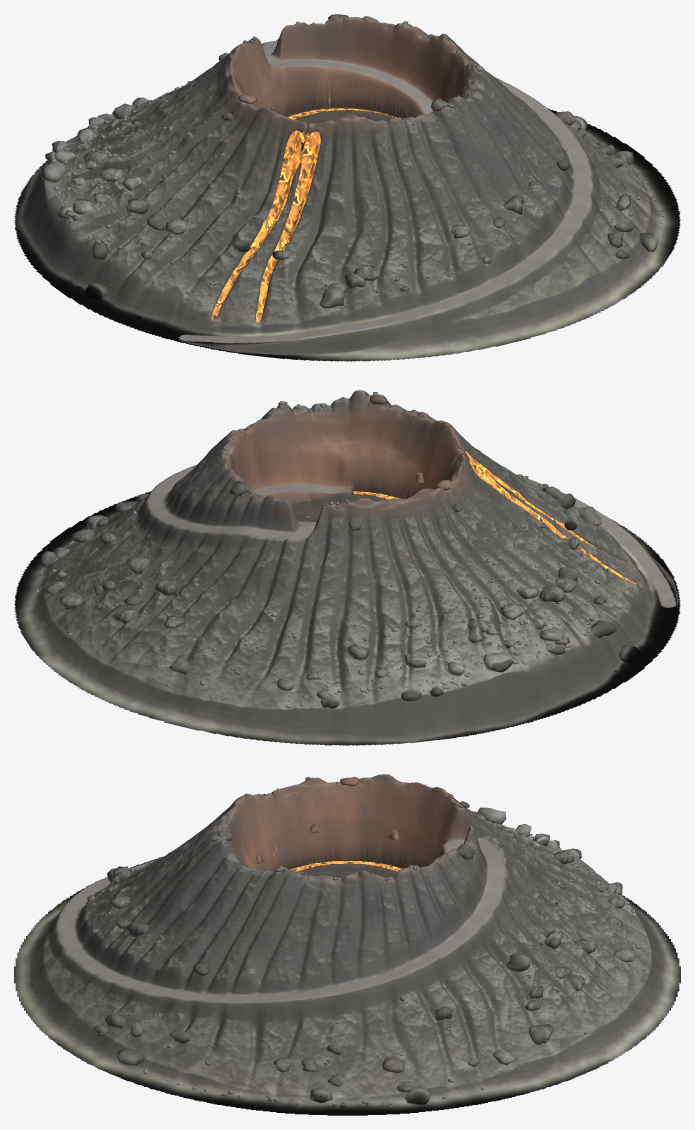
The model's file is volcano_titan_lod1.glb.
3 renders of one model, top to bottom at view 1: azimuth 30°, elevation 25°; view 2: azimuth 150°, elevation 25°; view 3: azimuth 270°, elevation 25°, orthographic.
Visible parts, largest first — view 1: volcano_lod1, volcano_lava_lod1; view 2: volcano_lod1, volcano_lava_lod1; view 3: volcano_lod1.
Part boxes in pixels (x1,y1,x2,y2): volcano_lod1: [14, 14, 680, 361]; volcano_lava_lod1: [211, 108, 396, 322]; volcano_lod1: [14, 390, 680, 745]; volcano_lava_lod1: [353, 451, 641, 587]; volcano_lod1: [14, 774, 680, 1115].
Size of the model in its own units: 296 by 77.6 by 296.
2 materials, 2 textured.
